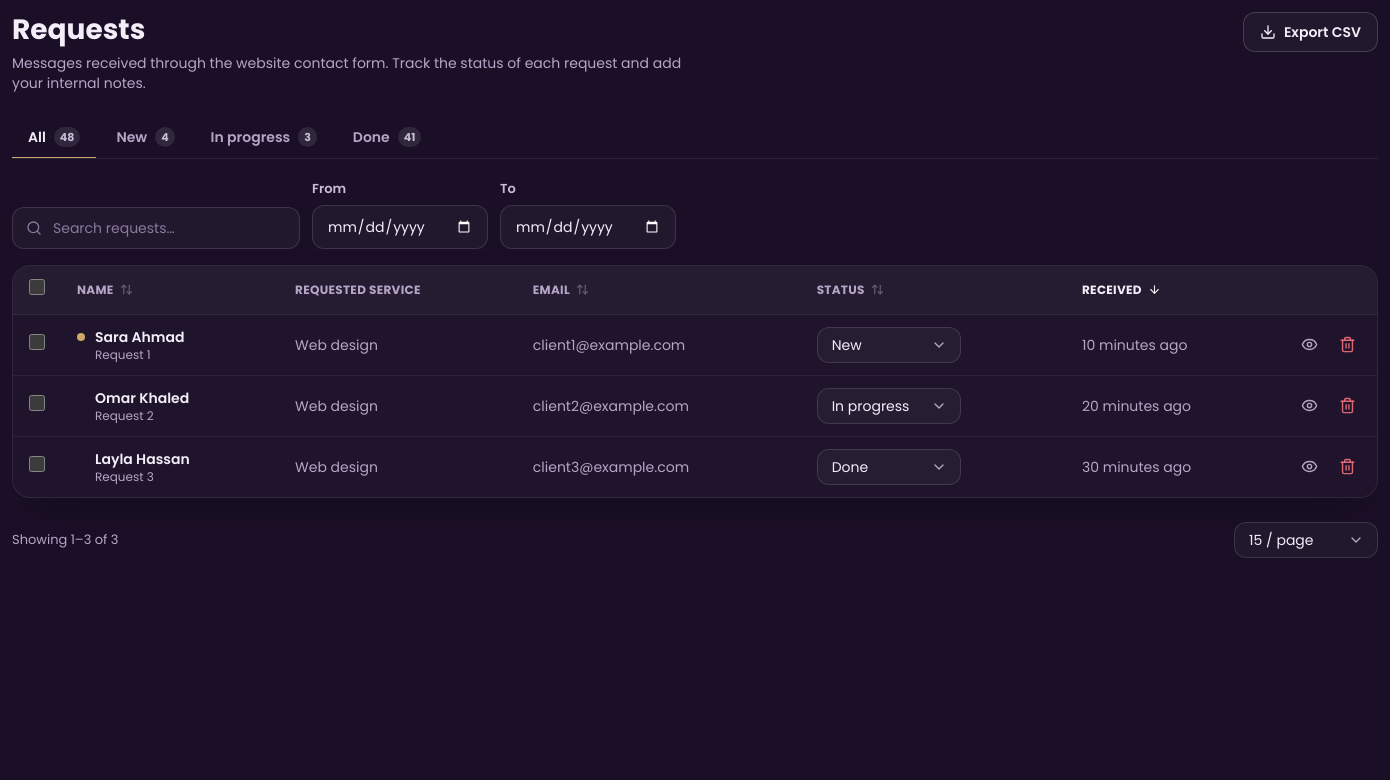
Test: RequestList › inline status › shows an error toast when the update fails
Expected: the link "Sara Ahmad" is shown, [95, 326, 184, 346]
Select "Done" in the dropdown named "Status of Sara Ahmad" at point(889, 344), box [817, 326, 961, 362]
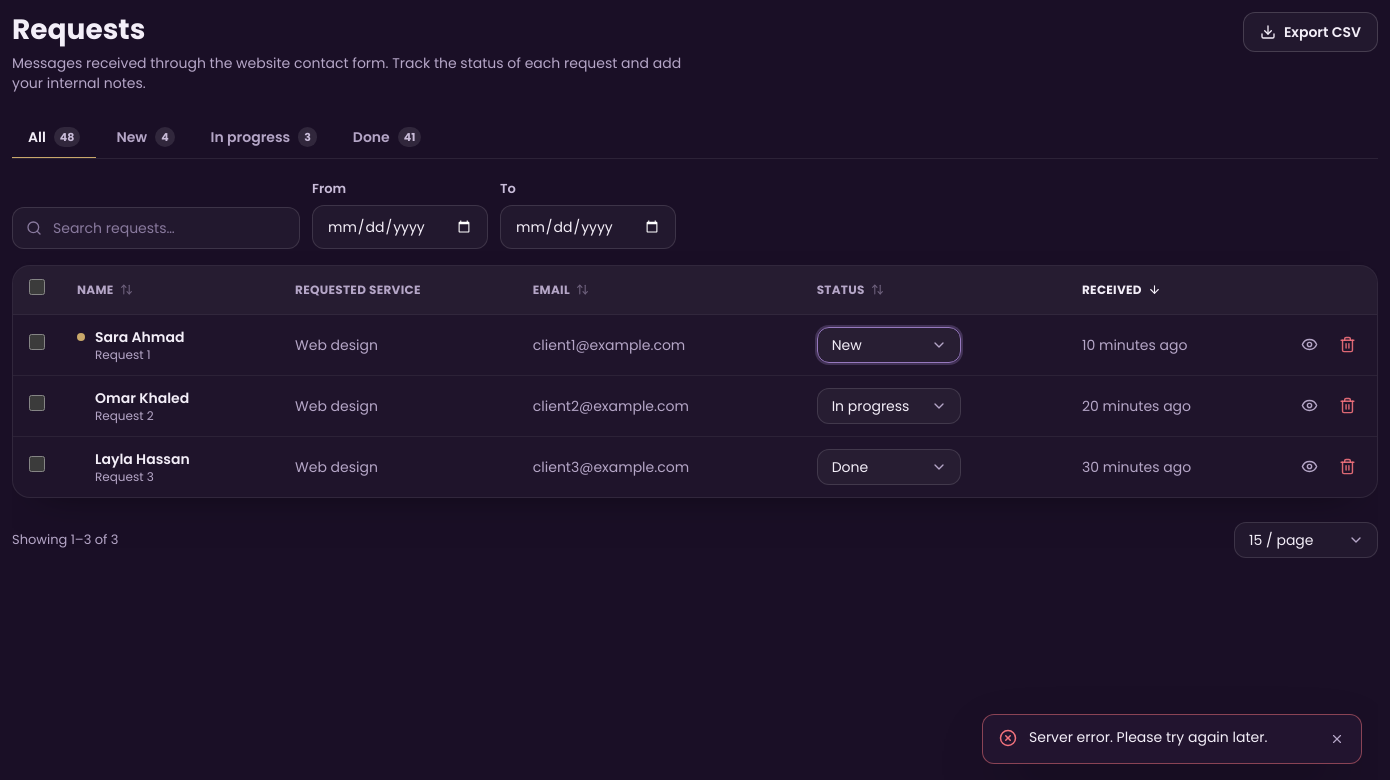
Expected: the text "Server error. Please try again later." is shown, [1029, 727, 1267, 747]
